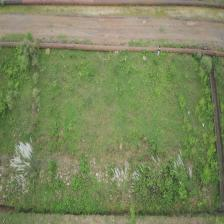slope_drain: (209, 70, 224, 210)
